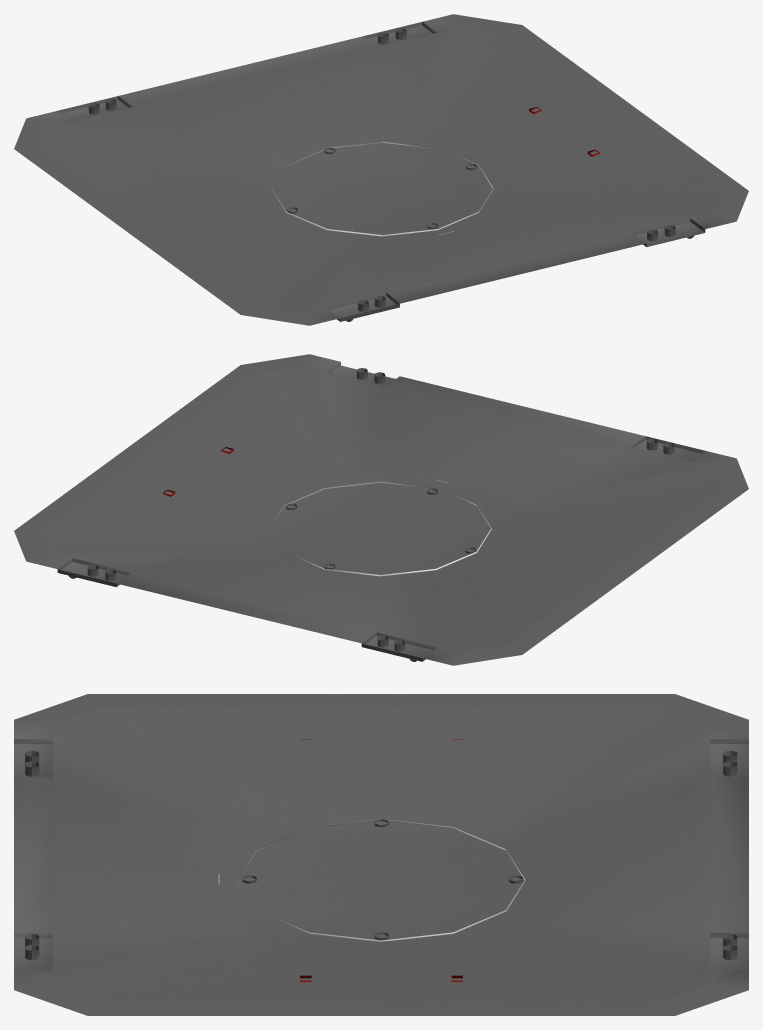
File: Escotilla.fbx
The picture shows the model from 3 angles, top to bottom: view 1: azimuth 30°, elevation 25°; view 2: azimuth 150°, elevation 25°; view 3: azimuth 270°, elevation 25°; orthographic projection. The views are drawn at different scales.
Parts seen in each view (by area): view 1: Escotilla; view 2: Escotilla; view 3: Escotilla.
Boxes of the visible parts, x1,y1,x2,y2 form: Escotilla: (14,14,748,325); Escotilla: (14,354,748,665); Escotilla: (14,694,748,1015).
Size of the model in its own units: 1.08 by 1.12 by 0.0783.
